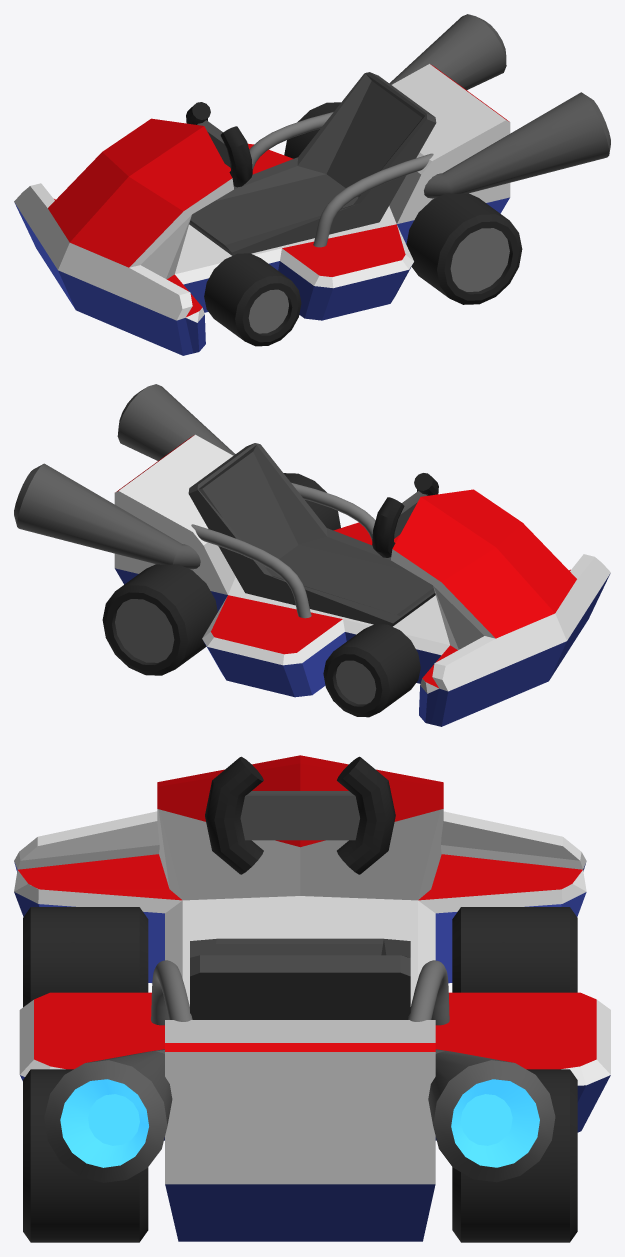
File: Gokart_import.fbx
3 renders of one model, top to bottom at view 1: azimuth 30°, elevation 25°; view 2: azimuth 150°, elevation 25°; view 3: azimuth 270°, elevation 25°, orthographic. The views are drawn at different scales.
Parts seen in each view (by area): view 1: Cube, Cube.001, Cylinder, Cylinder.004, Cylinder.001, BezierCurve, Torus, Cylinder.003; view 2: Cube, Cube.001, Cylinder, Cylinder.003, Cylinder.002, BezierCurve, Torus, Cylinder.004; view 3: Cube, Cylinder, Cube.001, Torus, Cylinder.003, Cylinder.004, Cylinder.001, Cylinder.002, BezierCurve.
Boxes of the visible parts, x1,y1,x2,y2 form: Cube: [14, 64, 510, 355]; Cube.001: [189, 72, 436, 255]; Cylinder: [389, 14, 610, 198]; Cylinder.004: [406, 193, 522, 304]; Cylinder.001: [204, 253, 301, 346]; BezierCurve: [249, 112, 433, 247]; Torus: [186, 102, 252, 187]; Cylinder.003: [284, 102, 340, 158]; Cube: [114, 434, 610, 726]; Cube.001: [188, 443, 435, 626]; Cylinder: [14, 384, 235, 569]; Cylinder.003: [102, 564, 217, 675]; Cylinder.002: [323, 624, 420, 717]; BezierCurve: [191, 482, 375, 618]; Torus: [372, 473, 438, 557]; Cylinder.004: [283, 473, 340, 530]; Cube: [14, 755, 610, 1241]; Cylinder: [44, 1049, 555, 1182]; Cube.001: [190, 938, 410, 1019]; Torus: [205, 756, 395, 874]; Cylinder.003: [452, 1069, 577, 1242]; Cylinder.004: [23, 1069, 148, 1242]; Cylinder.001: [23, 907, 148, 1007]; Cylinder.002: [452, 907, 577, 992]; BezierCurve: [151, 960, 449, 1025].
Bounding box in the file's own units: 350 × 121 × 208.
